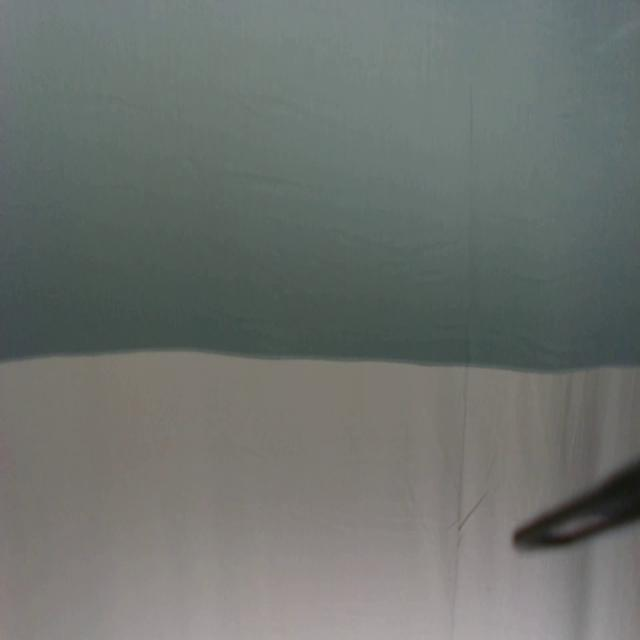crease: (450, 370, 470, 640)
